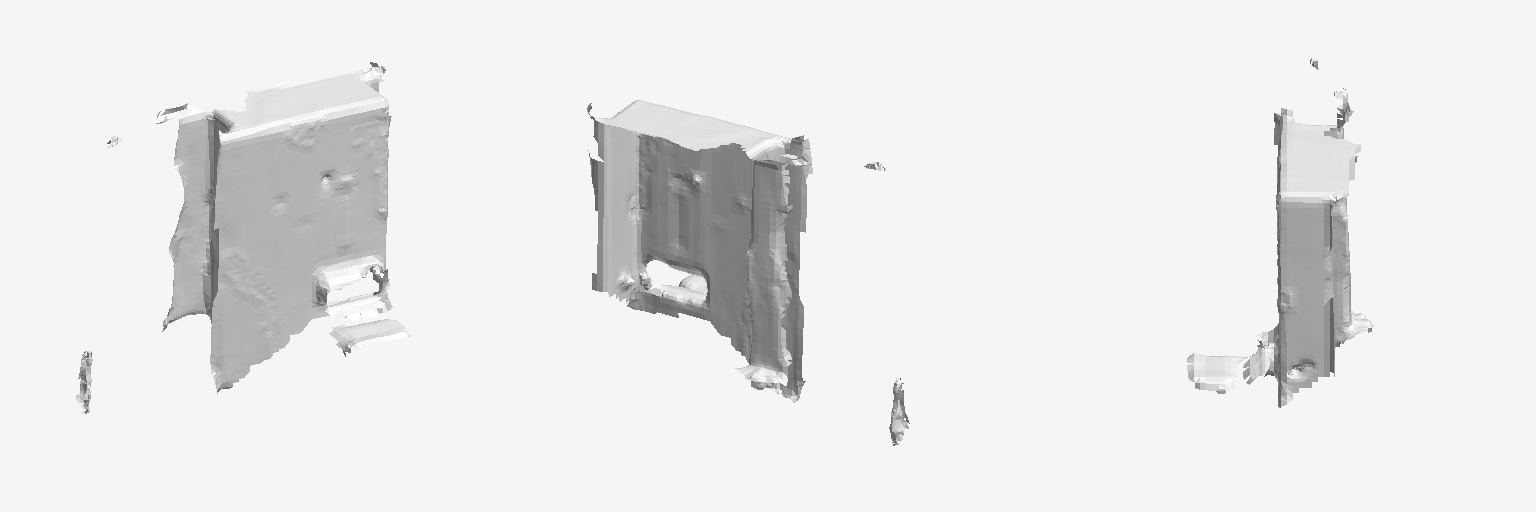
File: Hall1L.obj
3 renders of one model, left to right at view 1: azimuth 30°, elevation 25°; view 2: azimuth 150°, elevation 25°; view 3: azimuth 270°, elevation 25°, orthographic.
Size of the model in its own units: 4.72 by 3.94 by 2.4.